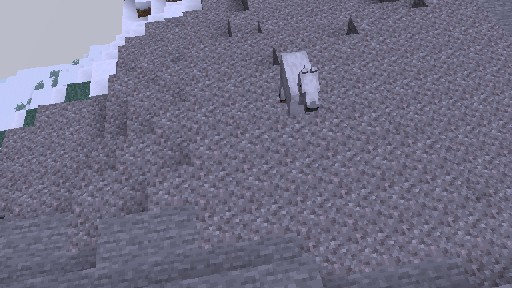horse: (278, 50, 320, 137)
